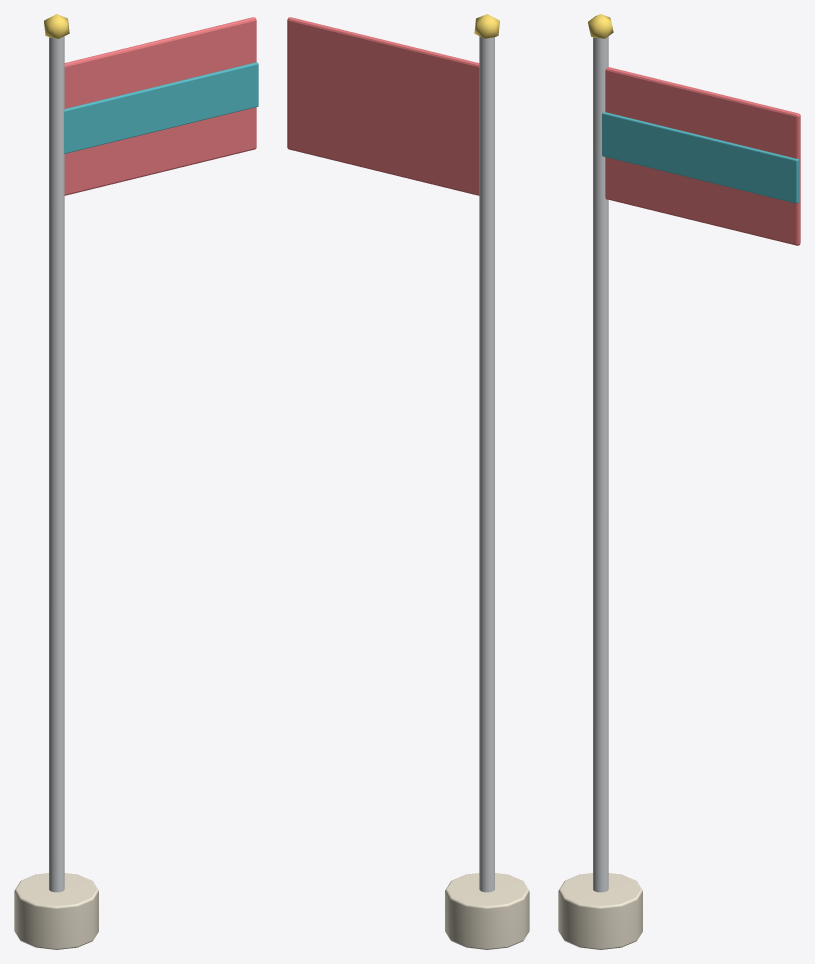
Rendered from flag_pole.fbx.
3 views of the same model, side by side, from view 1: azimuth 30°, elevation 25°; view 2: azimuth 150°, elevation 25°; view 3: azimuth 330°, elevation 25° (orthographic).
Visible parts, largest first — view 1: Visual; view 2: Visual; view 3: Visual.
Part boxes in pixels (x1,y1,x2,y2): Visual: (14, 14, 258, 949); Visual: (287, 14, 529, 949); Visual: (558, 14, 800, 949).
Size of what is drawn, in the model's own units: 225 by 837 by 70.
